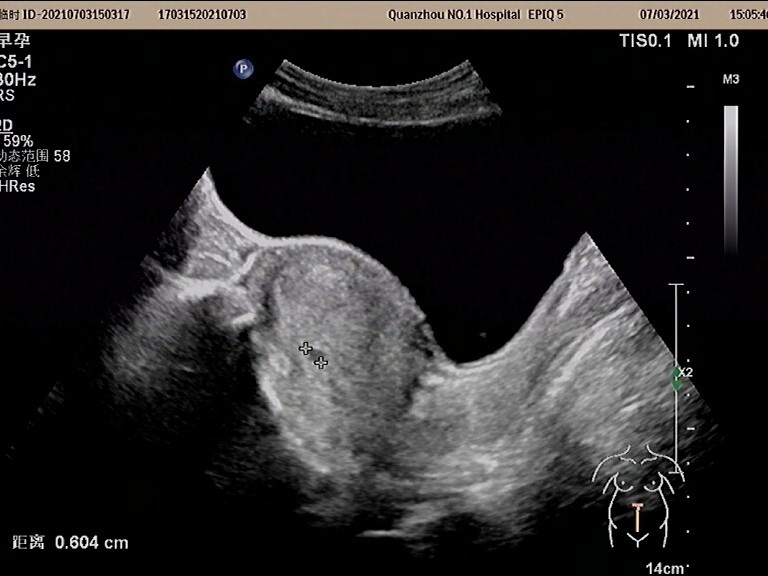肌瘤: (307, 346, 323, 364)
